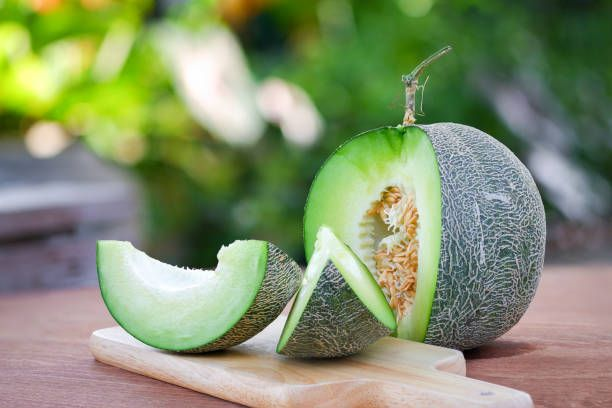Melon: (90, 218, 294, 354), (276, 226, 416, 347)
